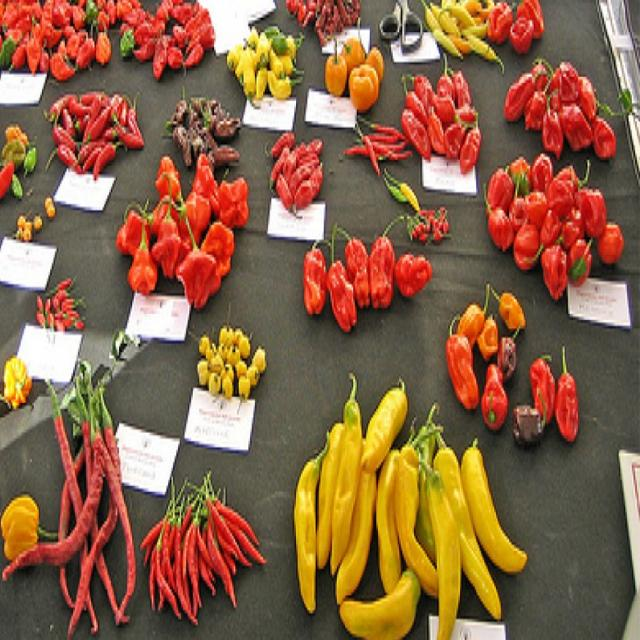Chilli Pepper: (138, 466, 266, 614), (46, 381, 107, 631), (84, 400, 144, 601), (462, 434, 524, 602), (378, 419, 438, 588), (419, 426, 464, 640), (358, 372, 416, 481), (168, 84, 239, 169), (289, 430, 322, 609), (328, 373, 356, 582), (331, 578, 425, 640), (226, 31, 302, 99), (30, 277, 87, 359), (434, 310, 478, 416), (205, 324, 264, 400), (2, 486, 49, 578), (44, 80, 90, 167), (551, 333, 581, 448), (298, 231, 332, 328), (339, 216, 372, 313), (397, 242, 437, 314), (579, 95, 619, 167), (366, 225, 396, 320), (403, 197, 455, 250), (555, 46, 597, 111), (209, 169, 252, 232), (198, 496, 225, 591), (183, 236, 214, 316), (150, 207, 181, 286), (46, 24, 83, 90), (109, 81, 136, 168), (327, 243, 355, 326), (477, 352, 503, 438), (564, 89, 593, 166), (540, 227, 572, 296), (506, 59, 540, 123), (530, 348, 558, 425), (180, 147, 214, 210), (517, 0, 550, 64), (124, 15, 163, 68), (127, 236, 159, 300), (458, 277, 489, 341), (164, 1, 195, 64), (440, 106, 470, 170), (222, 511, 255, 569), (511, 205, 540, 271), (407, 104, 436, 169), (376, 112, 407, 172), (548, 165, 580, 222), (85, 0, 112, 67), (6, 126, 40, 179), (474, 290, 500, 357), (352, 130, 388, 178), (270, 141, 298, 201), (200, 95, 233, 145), (359, 106, 384, 170), (3, 22, 36, 70), (454, 0, 482, 56), (461, 108, 484, 175), (85, 84, 107, 152), (501, 323, 524, 387), (494, 284, 522, 336), (322, 28, 346, 88), (188, 187, 210, 252), (154, 494, 169, 586), (0, 130, 18, 206), (516, 398, 545, 443), (151, 157, 179, 203), (431, 58, 455, 111), (541, 86, 560, 150), (350, 59, 375, 105), (489, 2, 514, 48), (174, 510, 188, 590), (35, 270, 59, 316), (431, 0, 453, 50), (78, 9, 101, 52), (188, 100, 203, 164), (269, 123, 298, 156), (220, 356, 244, 394), (233, 25, 249, 80), (388, 166, 406, 212), (400, 176, 418, 215), (263, 37, 277, 87), (7, 0, 30, 30), (60, 290, 74, 334), (423, 210, 439, 246), (219, 332, 237, 358), (207, 364, 220, 397), (245, 364, 262, 384), (290, 46, 298, 87), (51, 15, 61, 40)
